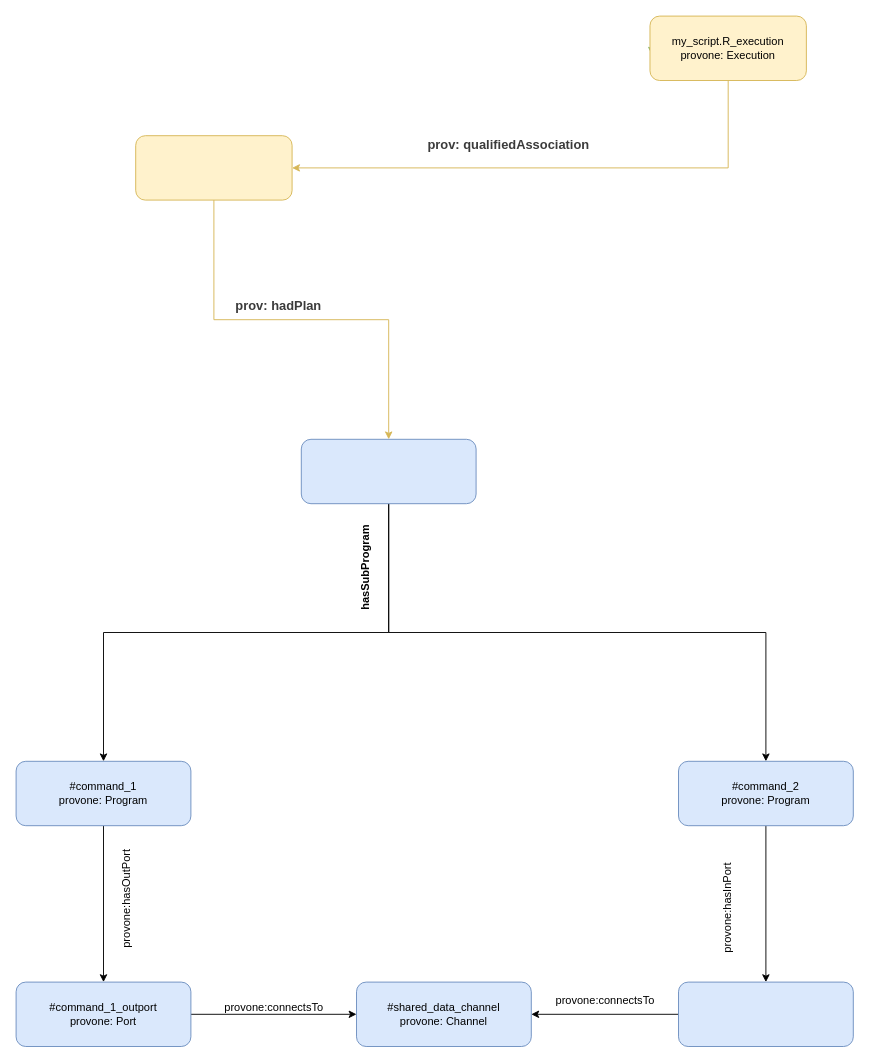
The diagram is 869 pixels wide and 1063 high, and some of its shapes have lost their labels. Each missing label, with the centre of its shape:
"#command_2_inport provone: Port" goes at (x=765, y=1013).
"associated_plan provone: Association" goes at (x=213, y=167).
"my_script.R _program provone: Program" goes at (x=388, y=471).
